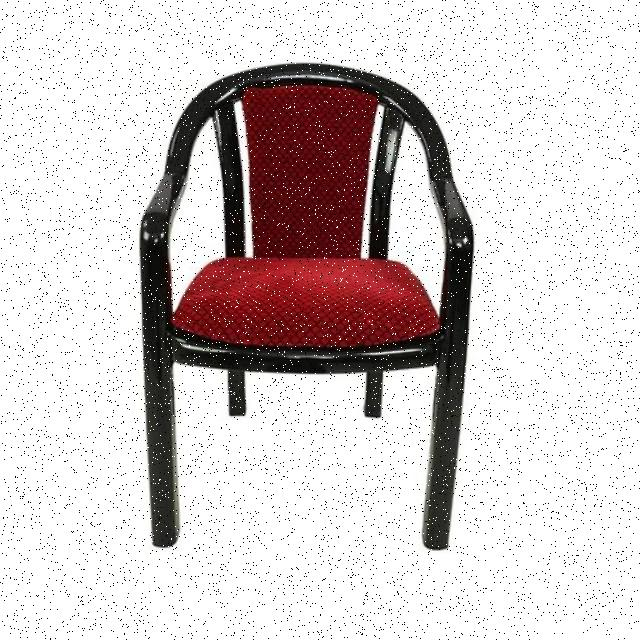bottle: (142, 63, 471, 552)
